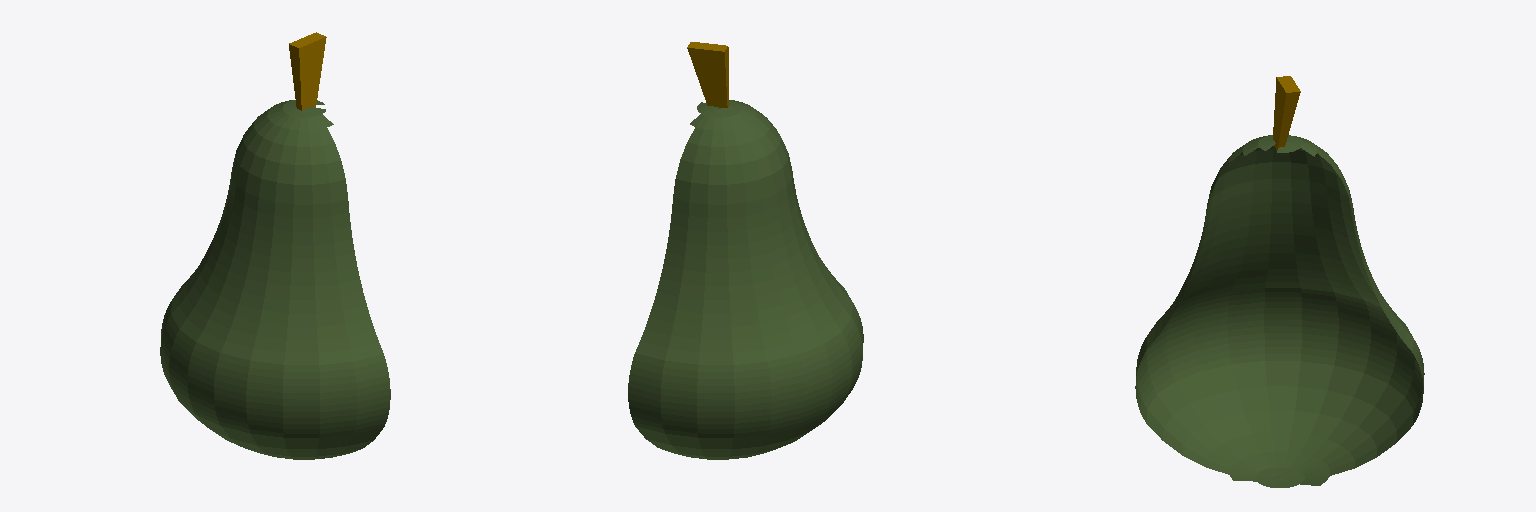
File: perlado_a.obj
3 views of the same model, side by side, from view 1: azimuth 30°, elevation 25°; view 2: azimuth 150°, elevation 25°; view 3: azimuth 270°, elevation 25° (orthographic).
Visible parts, largest first — view 1: Mesh2 Model, Mesh1 Component_1_1 Model; view 2: Mesh2 Model, Mesh1 Component_1_1 Model; view 3: Mesh2 Model, Mesh1 Component_1_1 Model.
Part boxes in pixels (x1,y1,x2,y2): Mesh2 Model: (160,100,390,459); Mesh1 Component_1_1 Model: (289,32,326,110); Mesh2 Model: (628,100,863,459); Mesh1 Component_1_1 Model: (687,42,728,107); Mesh2 Model: (1135,135,1424,487); Mesh1 Component_1_1 Model: (1273,76,1300,149).
Bounding box in the file's own units: 33.98 × 84.57 × 55.71.